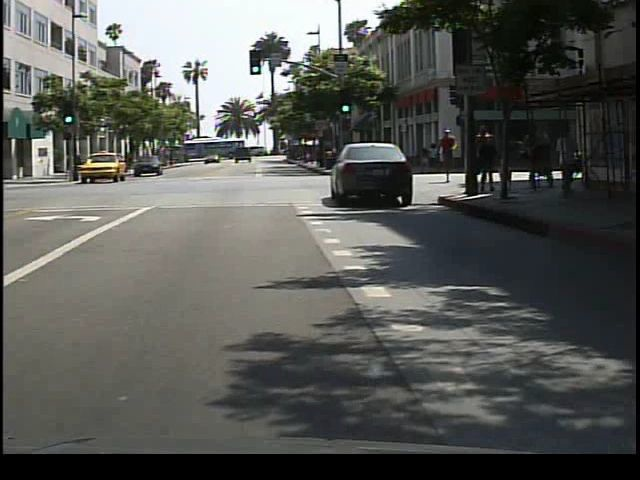person: (438, 127, 463, 189)
